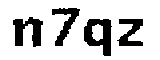7: (47, 5, 79, 53)
n: (8, 16, 45, 53)
q: (80, 16, 113, 60)
z: (113, 15, 145, 51)
